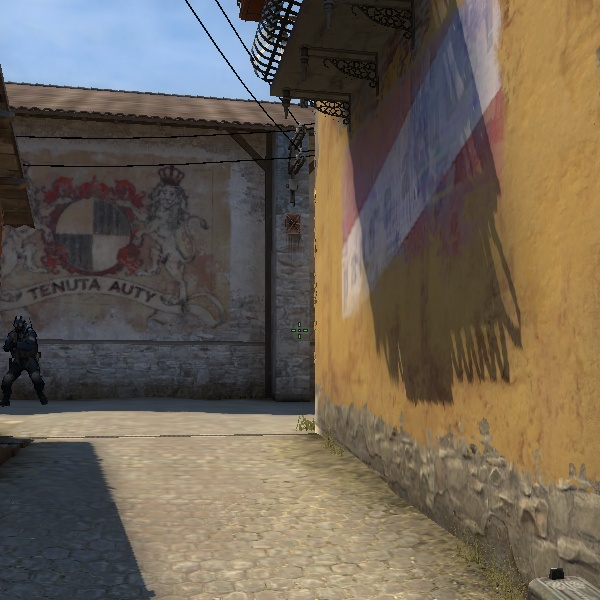ct_body: (1, 308, 51, 408)
